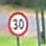limite 30: (5, 10, 29, 36)
